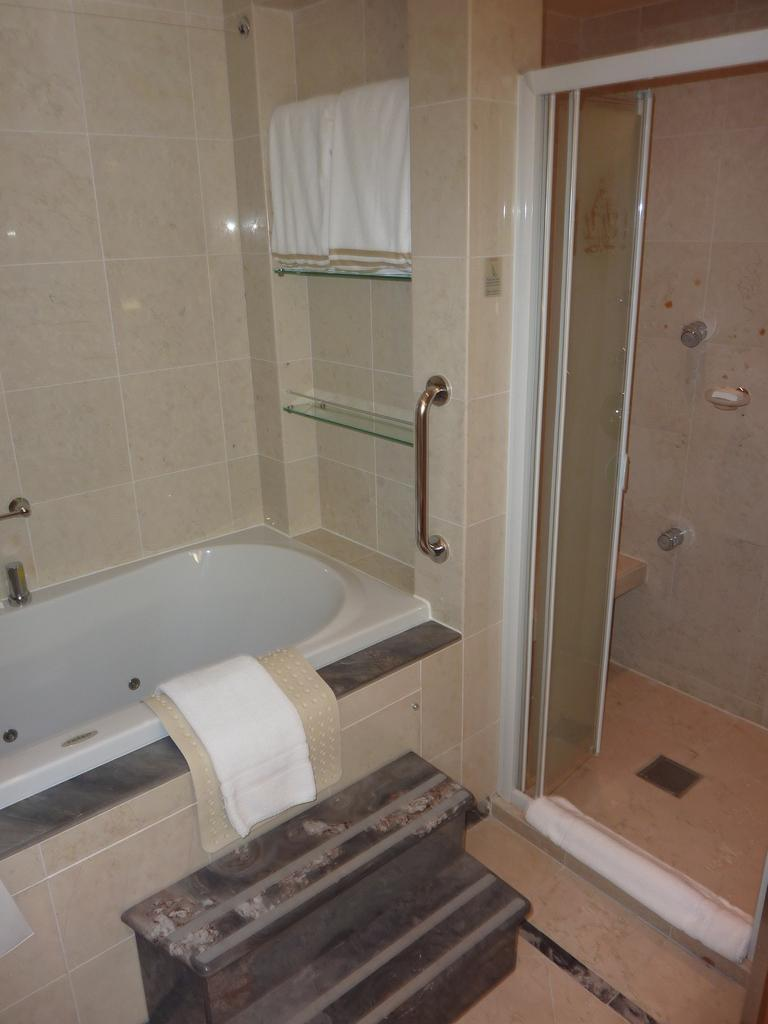door: (414, 380, 456, 570)
